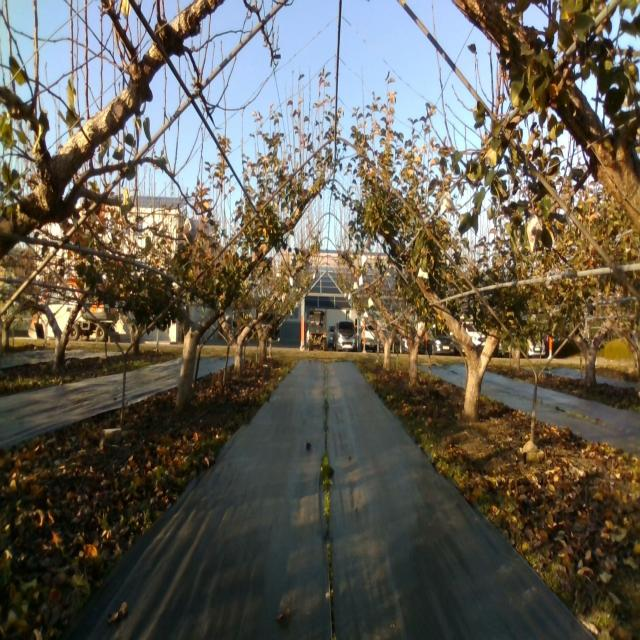pearbags: (526, 214, 543, 255), (182, 214, 198, 246), (440, 190, 456, 214)
